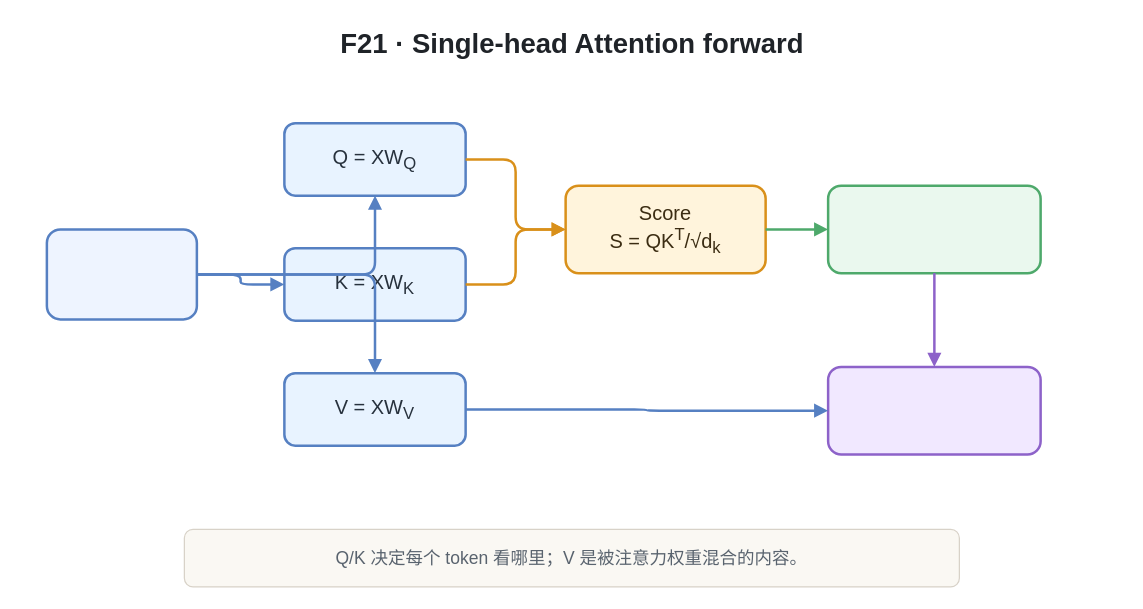
This 1143x609 diagram has some shape labels left out. The centre of each missing label's shape, as x and y in pixels:
"P = softmax(S) row-wise distribution" belongs at point 933,229.
"X (n T , d)" belongs at point 121,274.
"Y = PV weighted value mix" belongs at point 933,410.
